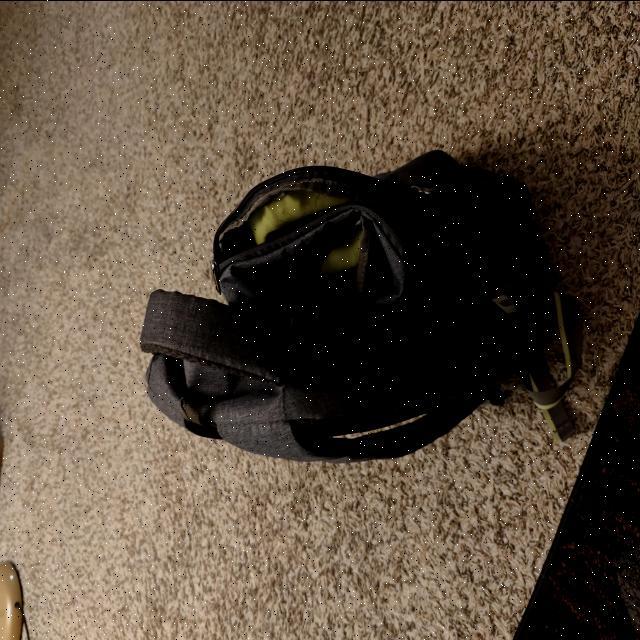bag: (148, 156, 568, 452)
